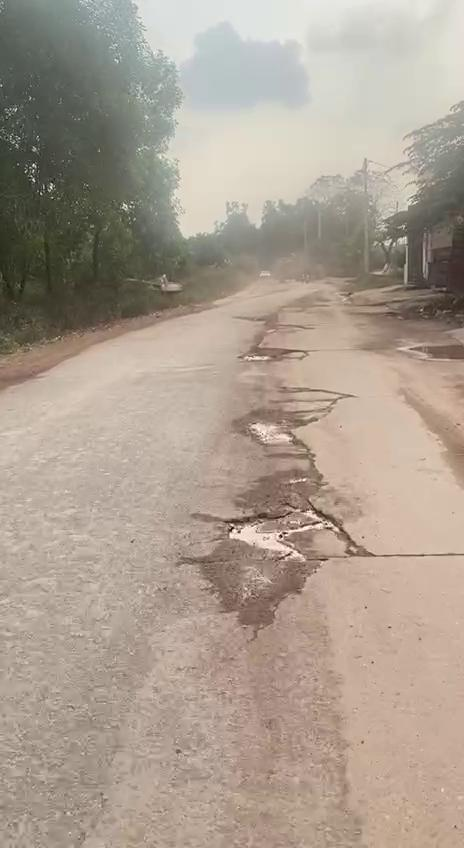pothole: (218, 500, 360, 570), (238, 406, 310, 448), (236, 345, 306, 364)
